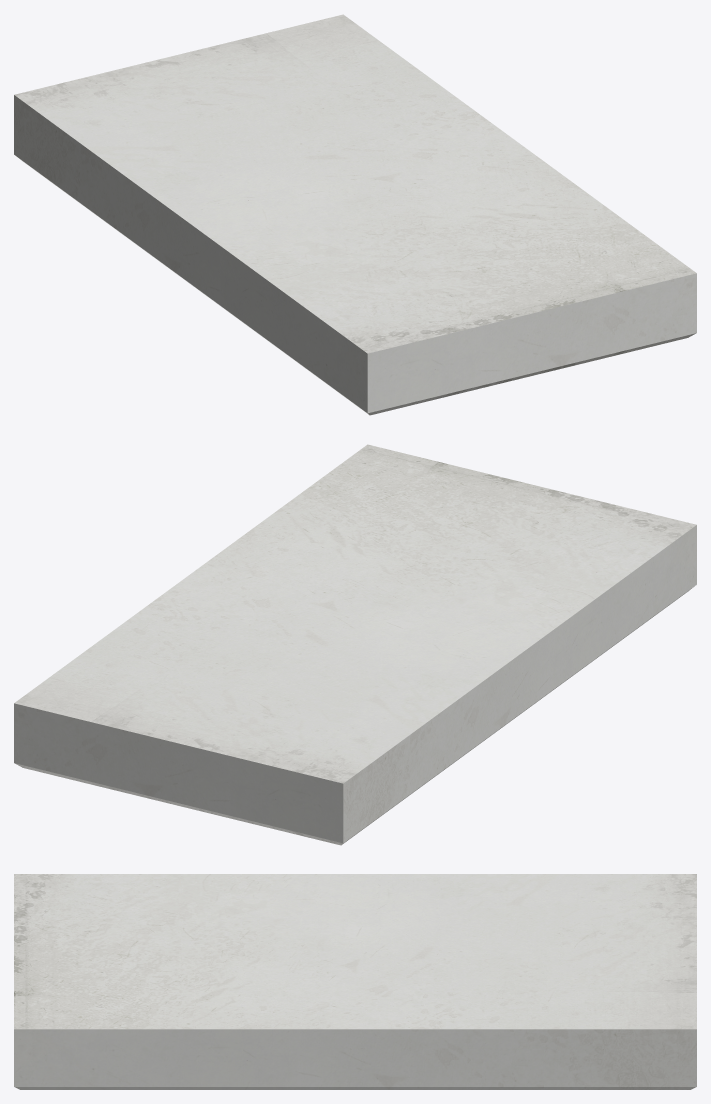
Rendered from Lvl1_light.fbx.
3 renders of one model, top to bottom at view 1: azimuth 30°, elevation 25°; view 2: azimuth 150°, elevation 25°; view 3: azimuth 270°, elevation 25°, orthographic. The views are drawn at different scales.
Parts seen in each view (by area): view 1: Würfel; view 2: Würfel; view 3: Würfel.
Part boxes in pixels (left/top/right/bottom): Würfel: left=14, top=14, right=696, bottom=415; Würfel: left=14, top=444, right=696, bottom=845; Würfel: left=14, top=874, right=696, bottom=1089.
Bounding box in the file's own units: 3 × 0.5721 × 5.59.
2 materials, 1 textured.
